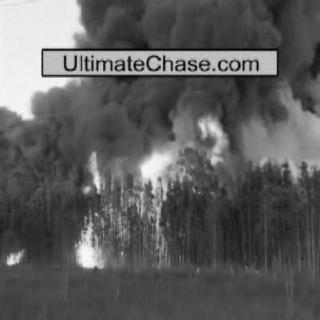Fire: (69, 148, 173, 274), (184, 96, 234, 164), (3, 232, 26, 268)
Smoke: (80, 0, 318, 48), (44, 82, 191, 142)
